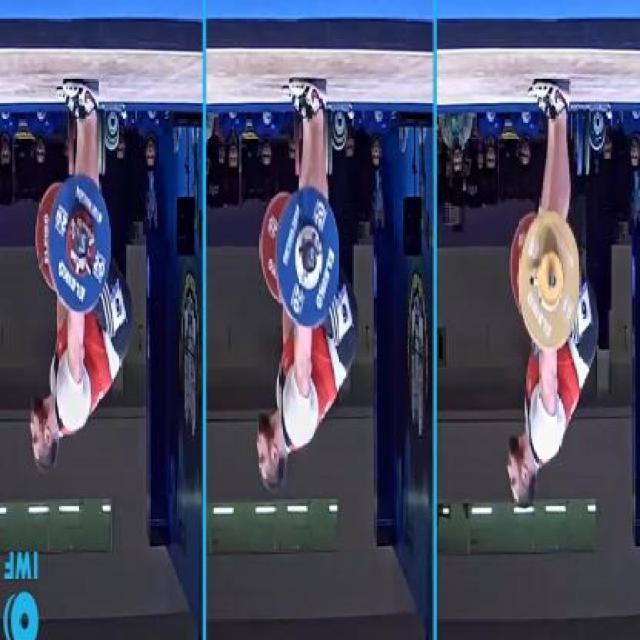Barbell: (290, 217, 326, 300), (64, 206, 98, 279), (534, 246, 566, 316)
